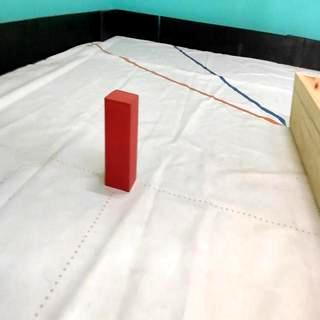redbox: (104, 88, 138, 190)
